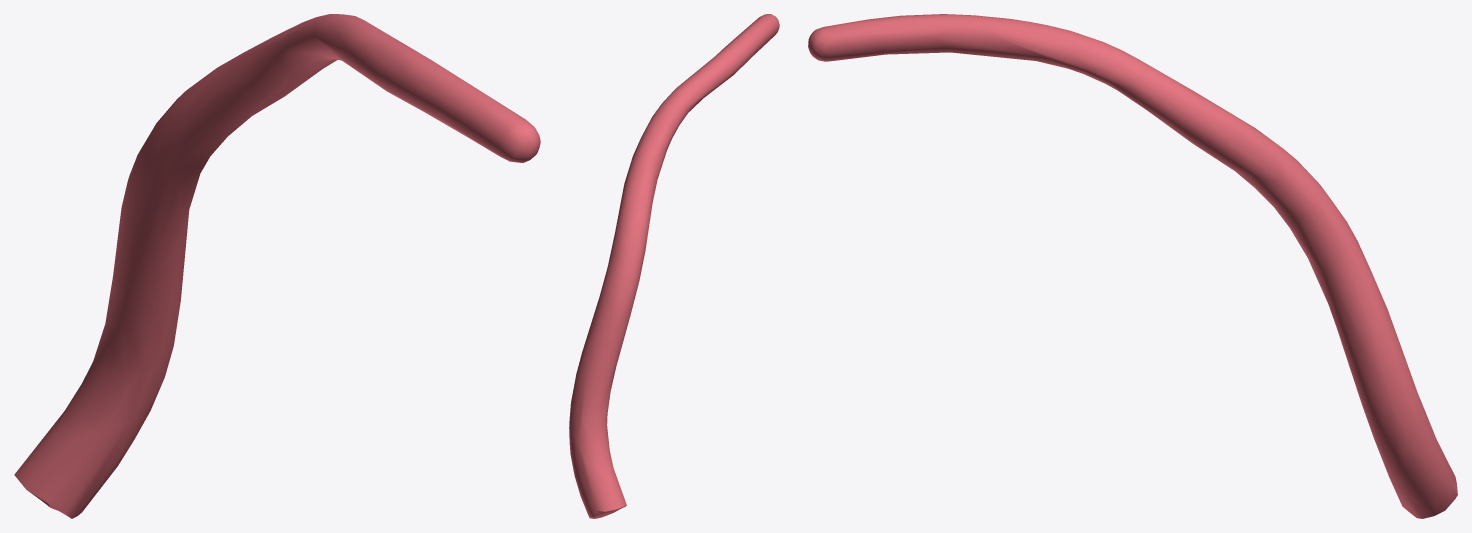
Rendered from fma4707_fj2656.glb.
3 renders of one model, left to right at view 1: azimuth 30°, elevation 25°; view 2: azimuth 150°, elevation 25°; view 3: azimuth 270°, elevation 25°, orthographic. The views are drawn at different scales.
Visible parts, largest first — view 1: FMA4707_FJ2656; view 2: FMA4707_FJ2656; view 3: FMA4707_FJ2656.
Part boxes in pixels (x1,y1,x2,y2): FMA4707_FJ2656: (14, 14, 540, 518); FMA4707_FJ2656: (569, 14, 779, 518); FMA4707_FJ2656: (808, 14, 1457, 518).
Bounding box in the file's own units: 0.00865 × 0.0397 × 0.045.
